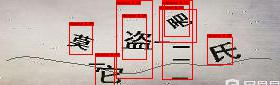chinese: (210, 39, 245, 62), (124, 29, 156, 52), (166, 8, 194, 33), (92, 61, 121, 85), (65, 33, 90, 52)
